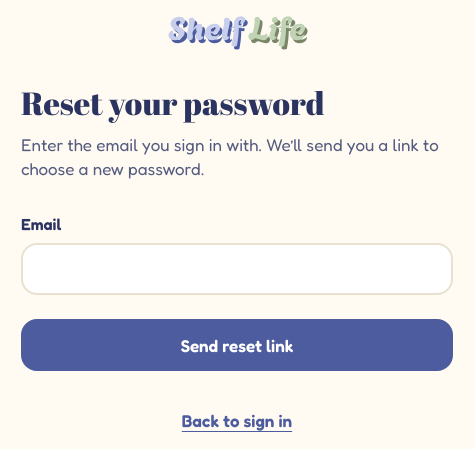
Test: Milestone 9b Forgot and reset password › Forgot: the same answer for any address
The image size is (475, 449).
Type "maya@example.com" into the field labelled "Email" at (237, 269), box [21,243,453,295]
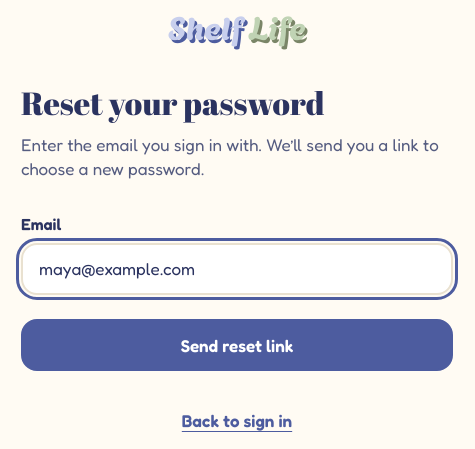
Click the button "Send reset link" at (237, 345), box [21,319,453,371]
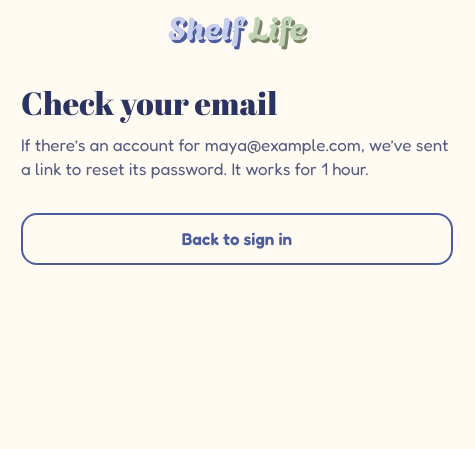
Now the text "If there’s an account for maya@example.com" is shown, box [21,134,448,179]
